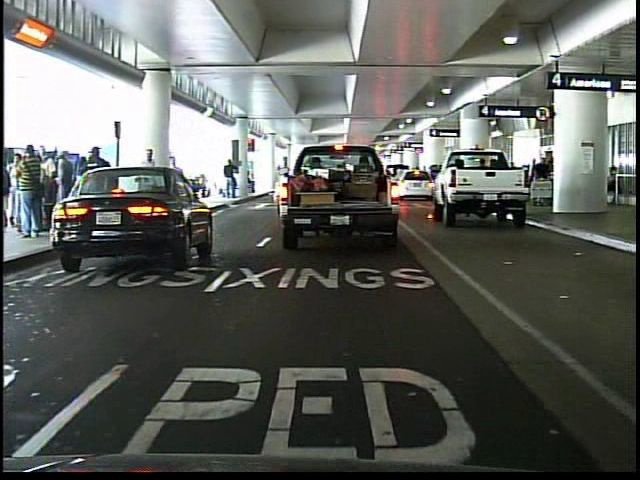person: (76, 141, 112, 227), (135, 146, 162, 230), (166, 156, 193, 229), (166, 151, 189, 224), (222, 159, 240, 200)
